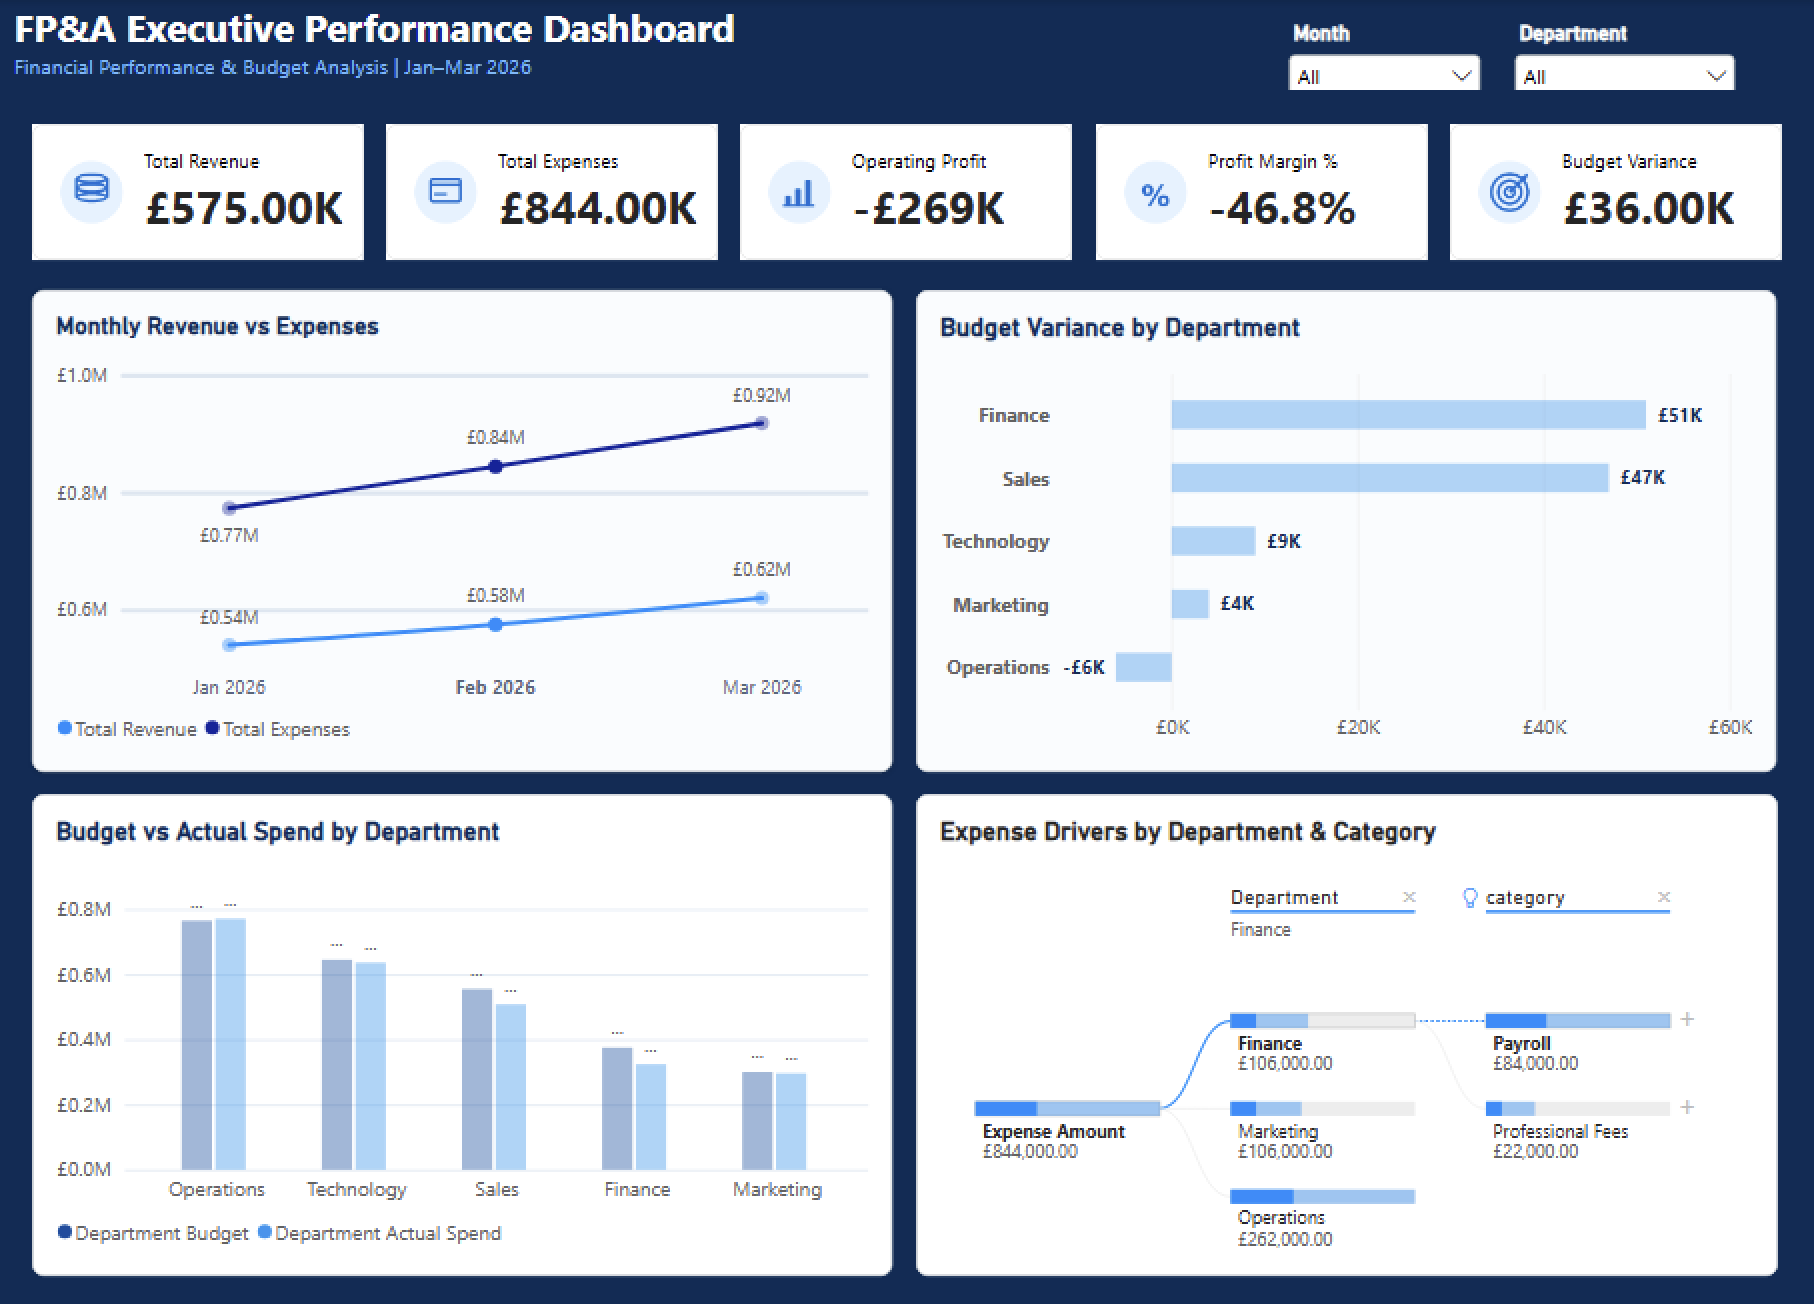

This screenshot's page, from the dashboard's own definition file:
{"tool":"powerbi","page":{"name":"Page 1","canvas":[1280,924],"ordinal":0},"visuals":[{"type":"shape","box":[0,0,1280,72],"z":0},{"type":"textbox","box":[10,0,280,280],"z":1000},{"type":"textbox","box":[11.1,0,1280,68],"z":2000},{"type":"cardVisual","fields":{"Data":["Monthly KPIs.Total Revenue"]},"box":[24,88,234,96],"z":3000},{"type":"lineChart","title":"Monthly Revenue vs Expenses","fields":{"Category":["Dim Date.Month"],"Y":["Monthly KPIs.Total Revenue","Monthly KPIs.Total Expenses"]},"box":[24,204,607,340],"z":4000},{"type":"clusteredColumnChart","title":"Budget vs Actual Spend by Department","fields":{"Category":["Dim Department.Department"],"Y":["Department Performance.Department Budget","Department Performance.Department Actual Spend"]},"box":[24,560,607,340],"z":5000},{"type":"clusteredBarChart","title":"Budget Variance by Department","fields":{"Category":["Dim Department.Department"],"Y":["Department Performance.Department Variance"]},"box":[648,204,607,340],"z":6000},{"type":"slicer","fields":{"Values":["Dim Date.Month"]},"box":[905,15,145,48],"z":7000},{"type":"slicer","fields":{"Values":["Dim Department.Department"]},"box":[1065,15,165,48],"z":8000},{"type":"cardVisual","fields":{"Data":["Monthly KPIs.Total Expenses"]},"box":[274,88,234,96],"z":9000},{"type":"cardVisual","fields":{"Data":["Monthly KPIs.Operating Profit"]},"box":[524,88,234,96],"z":10000},{"type":"cardVisual","fields":{"Data":["Monthly KPIs.Profit Margin %"]},"box":[774,88,234,96],"z":11000},{"type":"cardVisual","fields":{"Data":["Monthly KPIs.Budget Variance"]},"box":[1024,88,234,96],"z":12000},{"type":"decompositionTreeVisual","title":"Expense Drivers by Department & Category","fields":{"Analyze":["Transaction Detail.Expense Amount"],"ExplainBy":["Dim Department.Department","Transaction Detail.category","Dim Date.Month"]},"box":[648,560,607.7,340],"z":12001}]}

Visuals, with their boxes in screenshot pixels (x1, y1, x2, y2), scaled from the page's 1280x924 canvas onto the 1814x1304 screenshot:
shape: x1=0, y1=0, x2=1813, y2=102
textbox: x1=14, y1=0, x2=411, y2=395
textbox: x1=16, y1=0, x2=1813, y2=96
cardVisual - Monthly KPIs.Total Revenue: x1=34, y1=124, x2=366, y2=260
"Monthly Revenue vs Expenses" lineChart: x1=34, y1=288, x2=894, y2=768
"Budget vs Actual Spend by Department" clusteredColumnChart: x1=34, y1=790, x2=894, y2=1270
"Budget Variance by Department" clusteredBarChart: x1=918, y1=288, x2=1779, y2=768
slicer - Dim Date.Month: x1=1283, y1=21, x2=1488, y2=89
slicer - Dim Department.Department: x1=1509, y1=21, x2=1743, y2=89
cardVisual - Monthly KPIs.Total Expenses: x1=388, y1=124, x2=720, y2=260
cardVisual - Monthly KPIs.Operating Profit: x1=743, y1=124, x2=1074, y2=260
cardVisual - Monthly KPIs.Profit Margin %: x1=1097, y1=124, x2=1429, y2=260
cardVisual - Monthly KPIs.Budget Variance: x1=1451, y1=124, x2=1783, y2=260
"Expense Drivers by Department & Category" decompositionTreeVisual: x1=918, y1=790, x2=1780, y2=1270
